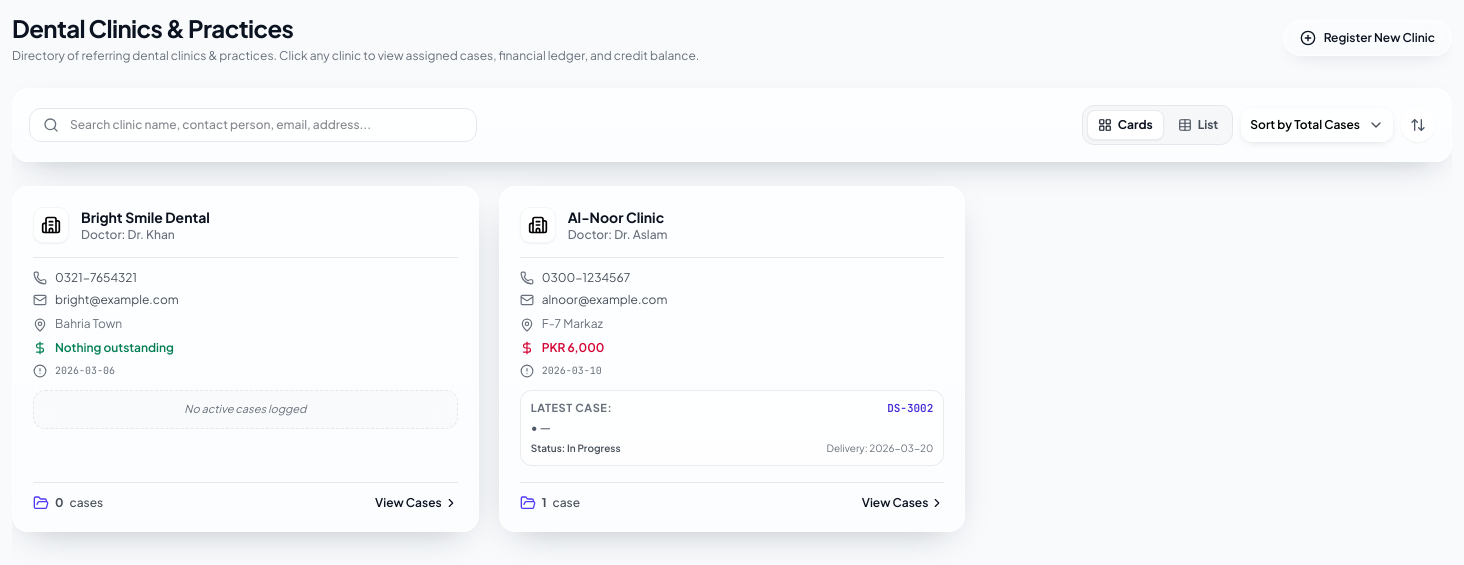
Scenario: clinic money columns › shows what each clinic still owes, derived from its invoices
Click the button "List".
click(1198, 125)  # box [1168,111,1228,139]
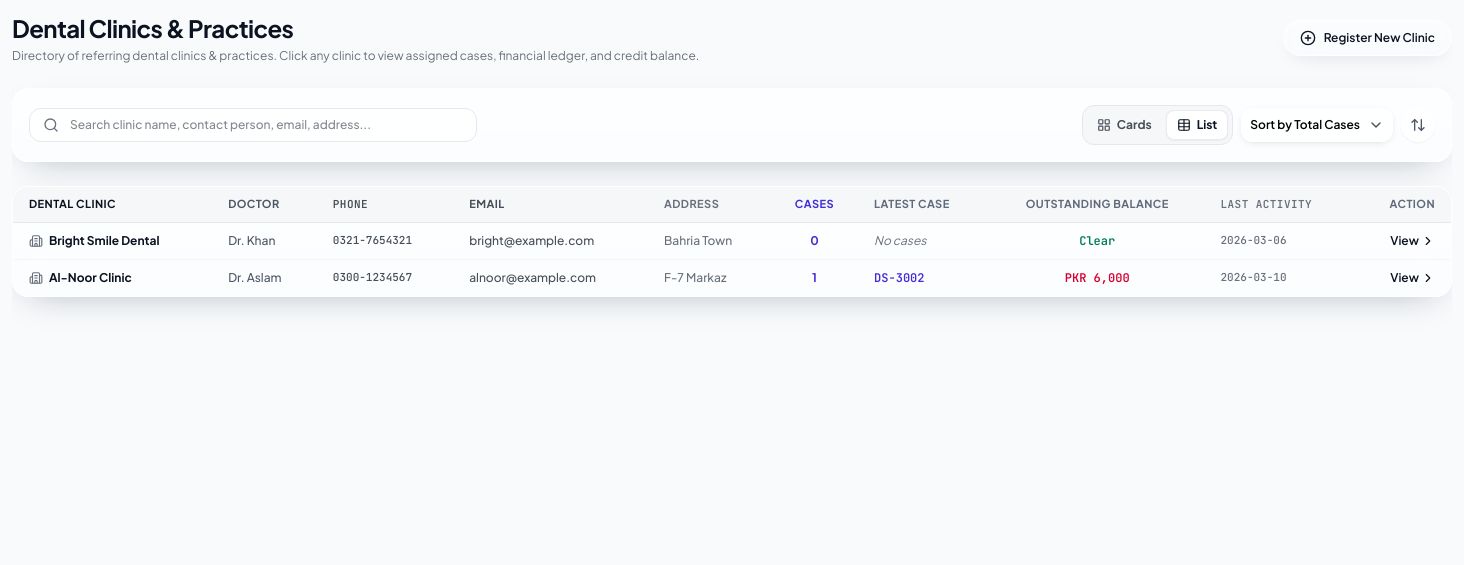
Check: the column heading "Outstanding Balance" is shown, box [990,187,1204,222]
Check: the text "PKR 6,000" is shown, box [1065,270,1130,286]
Check: the text "Clear" is shown, box [1079,233,1115,249]
